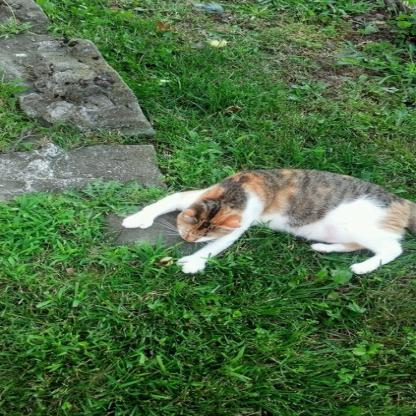Target: (128, 165, 416, 274)
